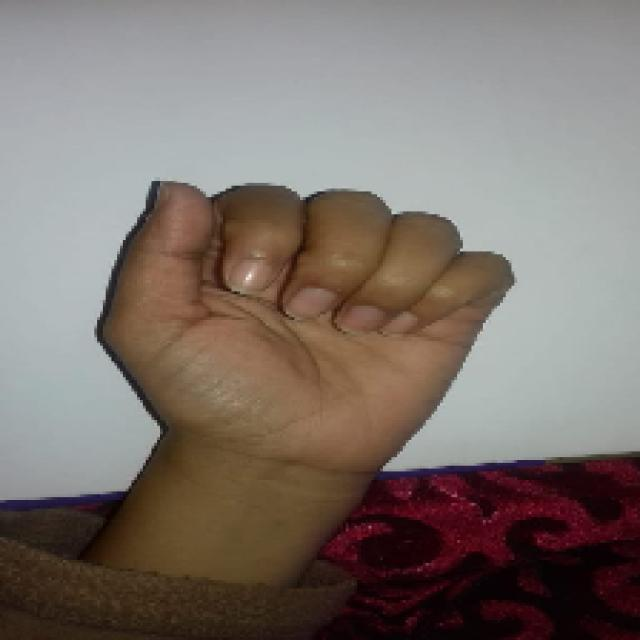Nail: (285, 286, 339, 319), (225, 259, 272, 295), (336, 305, 386, 331), (381, 311, 419, 332)
